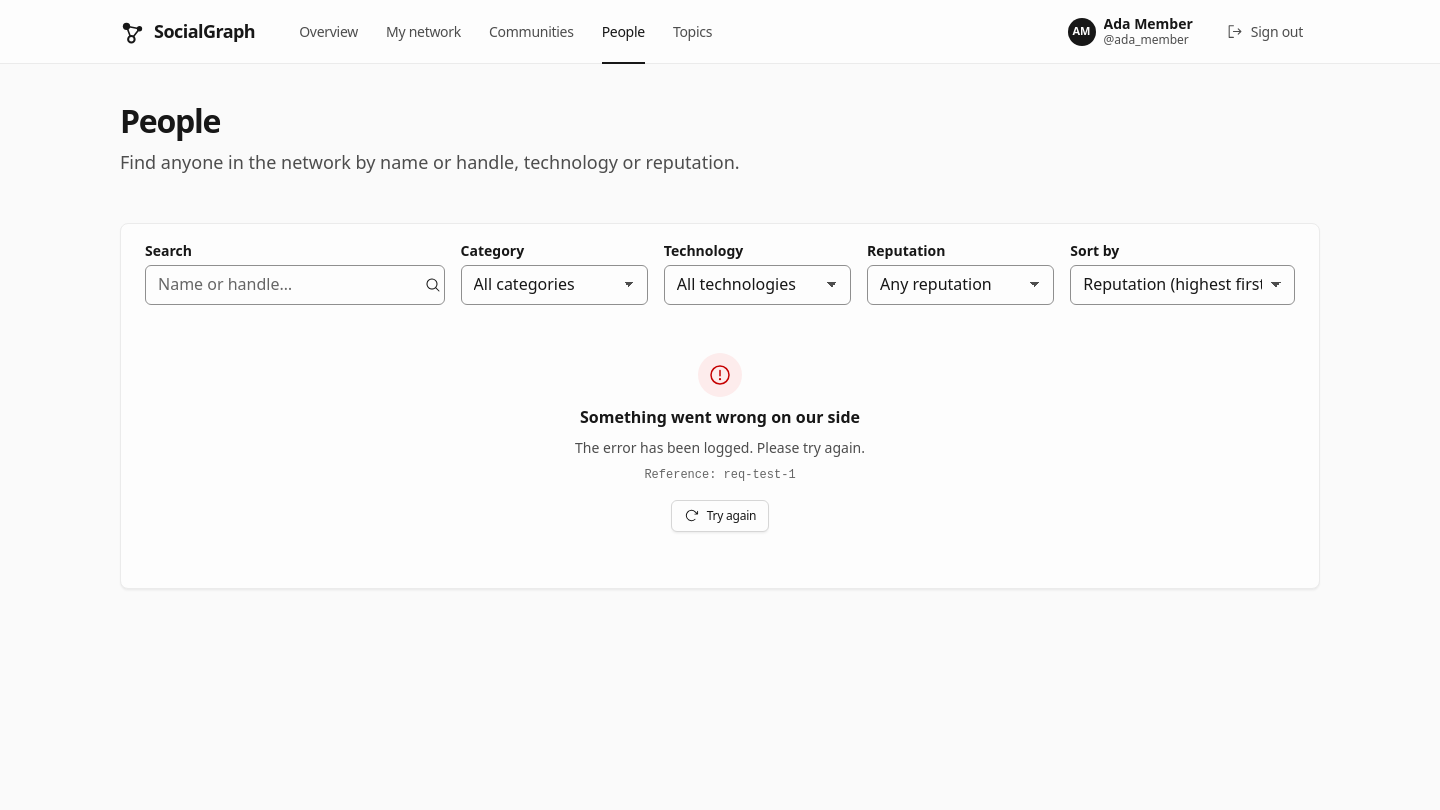
Test case: People › shows an error with a retry
Check: the text "Something went wrong on our side" is shown, box [580,405,860,429]
Click the button "Try again": (720, 516) [671,500,769,532]
(page scrolled)
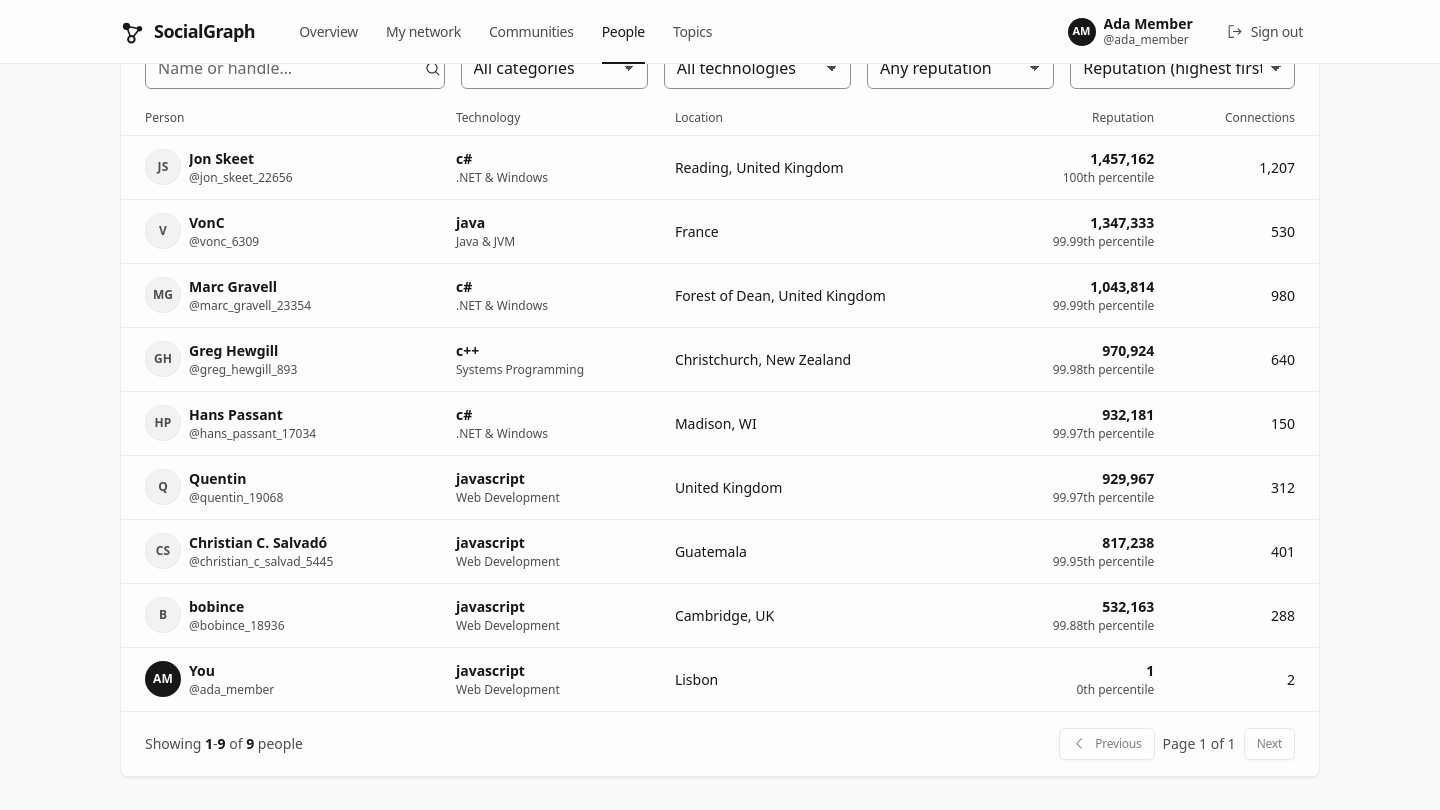
Check: the table named "People, sorted by" is shown
